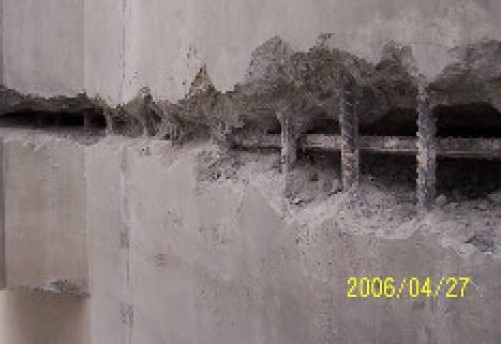Exposed reinforcement: (232, 132, 501, 160), (414, 87, 437, 213), (337, 75, 360, 192), (280, 114, 298, 176)
Spalling: (1, 31, 501, 257)
